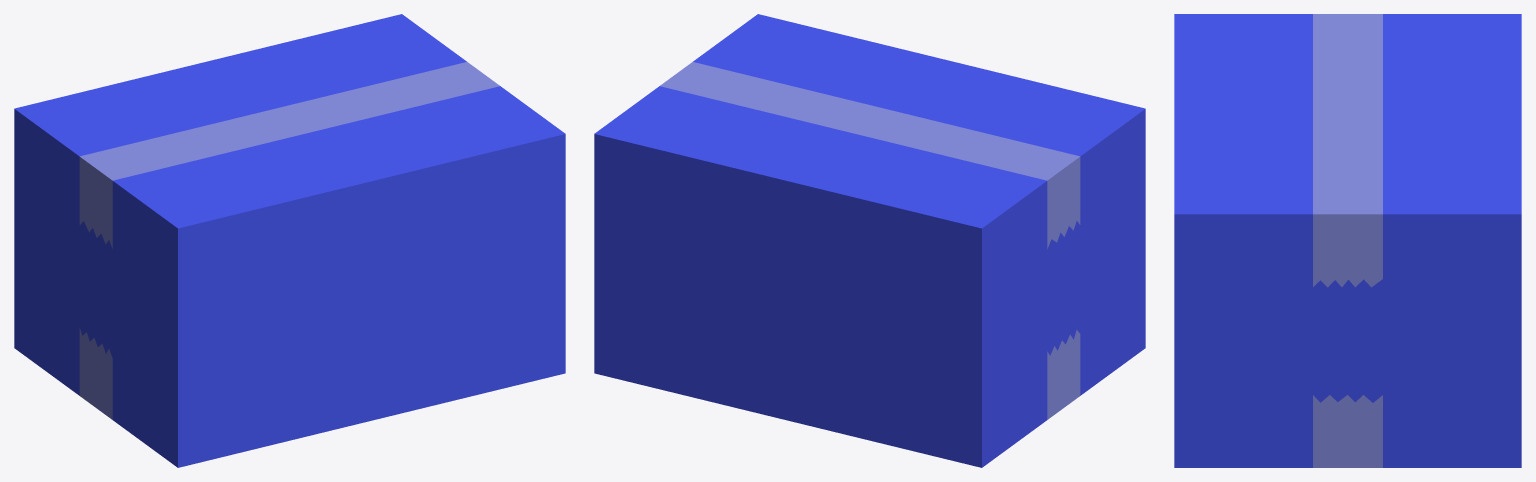
File: blue_box_0402.fbx
The picture shows the model from 3 angles, left to right: view 1: azimuth 30°, elevation 25°; view 2: azimuth 150°, elevation 25°; view 3: azimuth 270°, elevation 25°; orthographic projection. The views are drawn at different scales.
Visible parts, largest first — view 1: Box; view 2: Box; view 3: Box.
Boxes of the visible parts, x1=… form: Box: x1=14, y1=14, x2=565, y2=467; Box: x1=594, y1=14, x2=1145, y2=467; Box: x1=1174, y1=14, x2=1521, y2=467.
Size of the model in its own units: 83.39 by 49.21 by 61.03.
1 material, 1 textured.
